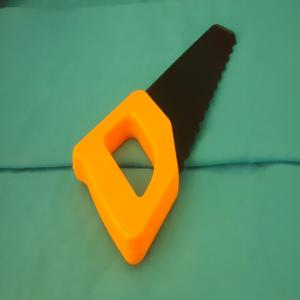serrote: (71, 23, 237, 266)
